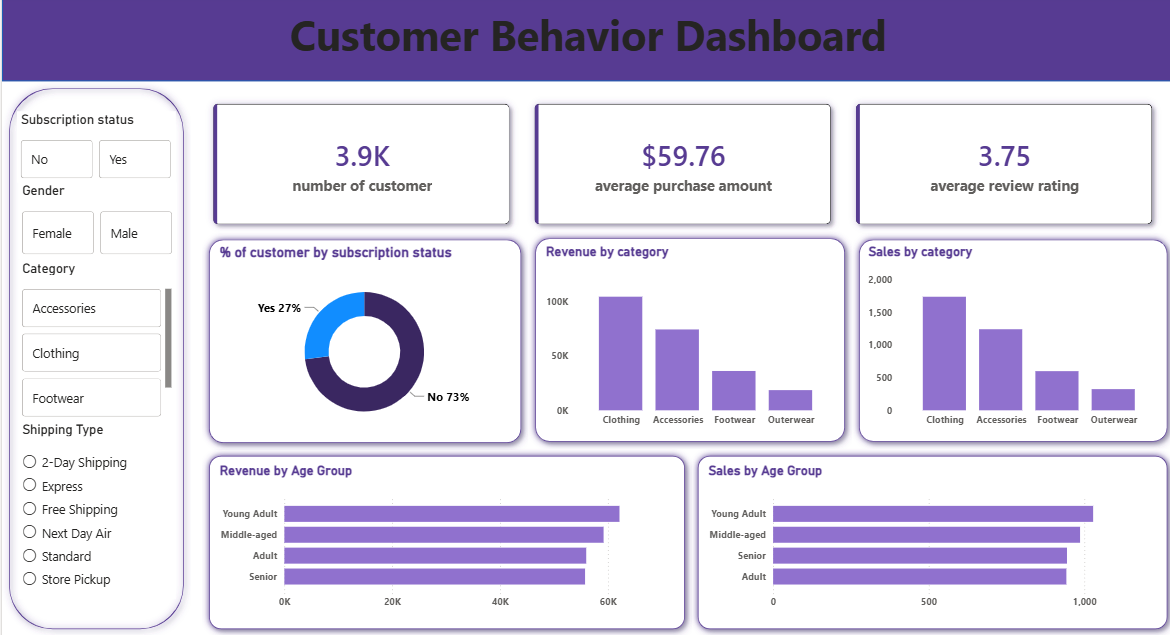

What the dashboard file says about the page in this screenshot:
{"tool":"powerbi","page":{"name":"Page 1","canvas":[1500,820],"ordinal":0},"visuals":[{"type":"cardVisual","fields":{"Data":["customer_behaviour customer_shopping_data.number of customer","customer_behaviour customer_shopping_data.average purchase amount","customer_behaviour customer_shopping_data.average review rating"]},"box":[241.5,110.4,1260.4,212.7],"z":0},{"type":"shape","box":[0,0,1500.3,110.4],"z":1000},{"type":"textbox","box":[0,9.6,1500.3,100.8],"z":2000},{"type":"shape","box":[255.9,303.9,417.5,278.3],"z":2001},{"type":"donutChart","title":"% of customer by subscription status","fields":{"Category":["customer_behaviour customer_shopping_data.subscription_status"],"Y":["CountNonNull(customer_behaviour customer_shopping_data.customer_id)"]},"box":[273.5,318.3,380.7,243.1],"z":2002},{"type":"shape","box":[673.4,302.3,414.3,278.3],"z":2003},{"type":"shape","box":[1087.7,303.9,412.7,276.7],"z":2004},{"type":"clusteredColumnChart","title":"Revenue by category","fields":{"Y":["Sum(customer_behaviour customer_shopping_data.purchase_amount)"],"Category":["customer_behaviour customer_shopping_data.category"]},"box":[691,318.3,382.3,243.1],"z":2005},{"type":"clusteredColumnChart","title":"Sales by category","fields":{"Y":["CountNonNull(customer_behaviour customer_shopping_data.customer_id)"],"Category":["customer_behaviour customer_shopping_data.category"]},"box":[1103.7,318.3,382.3,243.1],"z":2006},{"type":"shape","box":[0,110.4,241.5,710.2],"z":2007},{"type":"advancedSlicerVisual","fields":{"Values":["customer_behaviour customer_shopping_data.subscription_status"]},"box":[19.2,148.8,203.1,91.2],"z":2008},{"type":"advancedSlicerVisual","fields":{"Values":["customer_behaviour customer_shopping_data.gender"]},"box":[20.8,239.9,203.1,97.6],"z":2009},{"type":"advancedSlicerVisual","fields":{"Values":["customer_behaviour customer_shopping_data.category"]},"box":[20.8,339.1,201.5,206.3],"z":2010},{"type":"listSlicer","fields":{"Values":["customer_behaviour customer_shopping_data.shipping_type"]},"box":[20.8,545.4,201.5,227.1],"z":2011},{"type":"shape","box":[255.9,580.6,627,239.9],"z":2012},{"type":"clusteredBarChart","title":"Revenue by Age Group","fields":{"Y":["Sum(customer_behaviour customer_shopping_data.purchase_amount)"],"Category":["customer_behaviour customer_shopping_data.age_group"]},"box":[273.5,598.2,587,196.7],"z":2013},{"type":"shape","box":[881.3,580.6,619,239.9],"z":2014},{"type":"clusteredBarChart","title":"Sales by Age Group","fields":{"Y":["CountNonNull(customer_behaviour customer_shopping_data.customer_id)"],"Category":["customer_behaviour customer_shopping_data.age_group"]},"box":[898.9,598.2,587,196.7],"z":2015}]}

Visuals, with their boxes in screenshot pixels (x1, y1, x2, y2), scaled from the page's 1500x820 canvas onto the 1170x635 screenshot:
cardVisual - customer_behaviour customer_shopping_data.number of customer x customer_behaviour customer_shopping_data.average purchase amount: pyautogui.locateOnScreen(188, 85, 1169, 250)
shape: pyautogui.locateOnScreen(0, 0, 1169, 85)
textbox: pyautogui.locateOnScreen(0, 7, 1169, 85)
shape: pyautogui.locateOnScreen(200, 235, 525, 451)
"% of customer by subscription status" donutChart: pyautogui.locateOnScreen(213, 246, 510, 435)
shape: pyautogui.locateOnScreen(525, 234, 848, 450)
shape: pyautogui.locateOnScreen(848, 235, 1169, 450)
"Revenue by category" clusteredColumnChart: pyautogui.locateOnScreen(539, 246, 837, 435)
"Sales by category" clusteredColumnChart: pyautogui.locateOnScreen(861, 246, 1159, 435)
shape: pyautogui.locateOnScreen(0, 85, 188, 634)
advancedSlicerVisual - customer_behaviour customer_shopping_data.subscription_status: pyautogui.locateOnScreen(15, 115, 173, 186)
advancedSlicerVisual - customer_behaviour customer_shopping_data.gender: pyautogui.locateOnScreen(16, 186, 175, 261)
advancedSlicerVisual - customer_behaviour customer_shopping_data.category: pyautogui.locateOnScreen(16, 263, 173, 422)
listSlicer - customer_behaviour customer_shopping_data.shipping_type: pyautogui.locateOnScreen(16, 422, 173, 598)
shape: pyautogui.locateOnScreen(200, 450, 689, 634)
"Revenue by Age Group" clusteredBarChart: pyautogui.locateOnScreen(213, 463, 671, 616)
shape: pyautogui.locateOnScreen(687, 450, 1169, 634)
"Sales by Age Group" clusteredBarChart: pyautogui.locateOnScreen(701, 463, 1159, 616)
